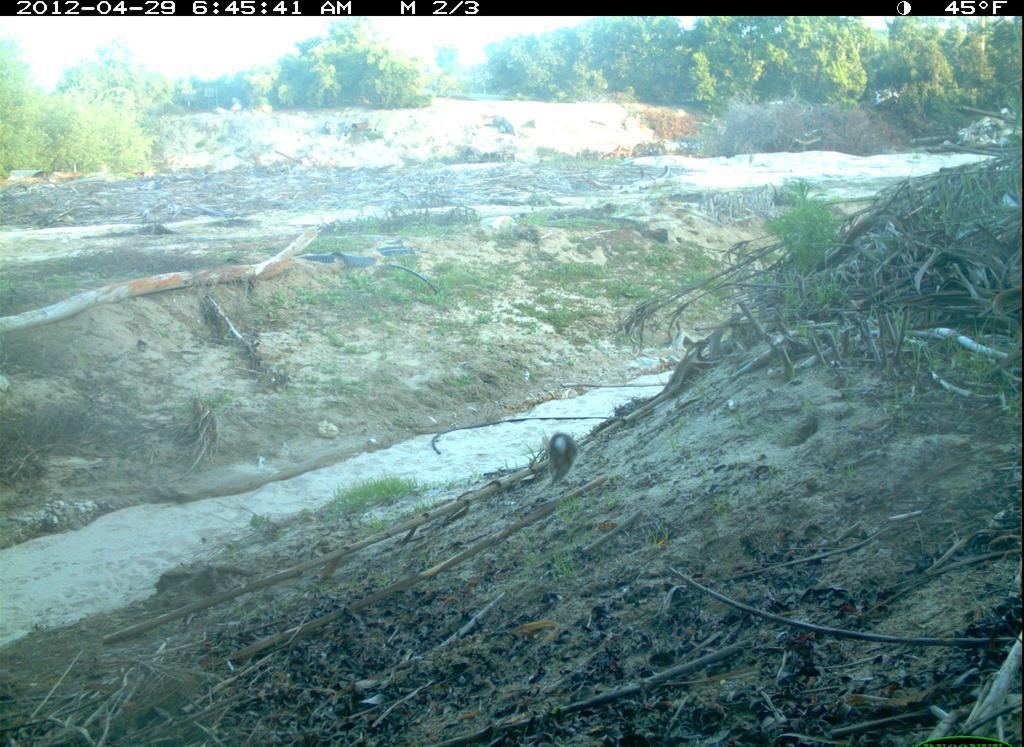rabbit: (532, 428, 583, 495)
